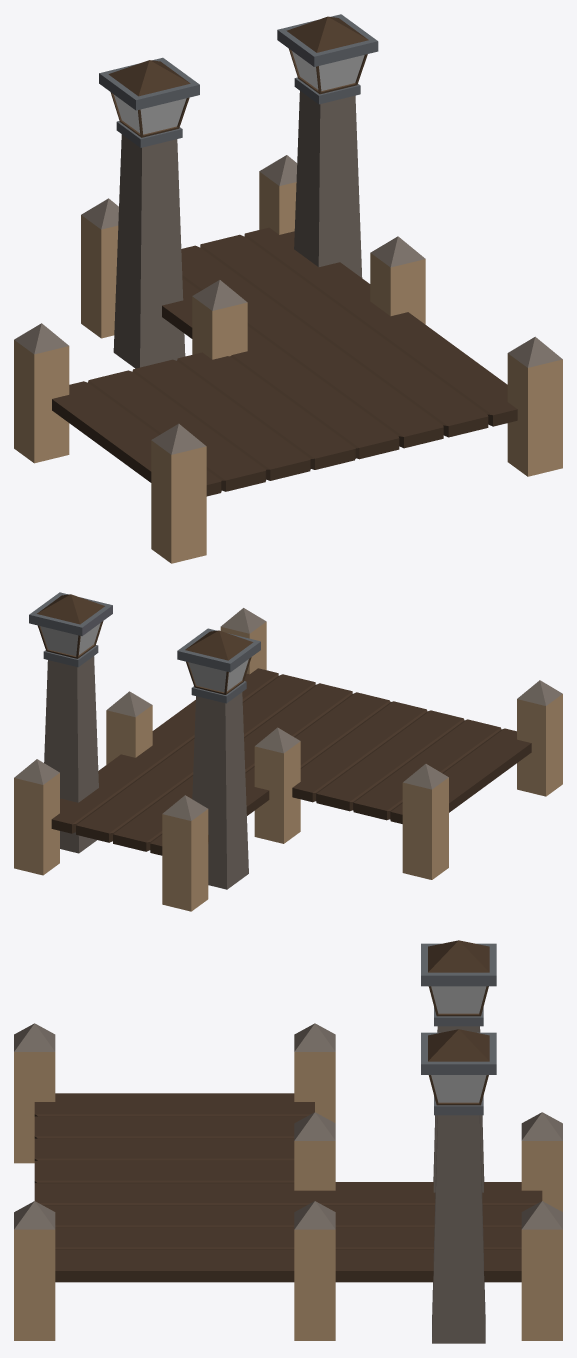
Rendered from SM_Pier_01_B.gltf.
3 renders of one model, top to bottom at view 1: azimuth 30°, elevation 25°; view 2: azimuth 150°, elevation 25°; view 3: azimuth 270°, elevation 25°, orthographic. The views are drawn at different scales.
Visible parts, largest first — view 1: SM_Pier_01_B; view 2: SM_Pier_01_B; view 3: SM_Pier_01_B.
Part boxes in pixels (x1=…): SM_Pier_01_B: x1=14, y1=14, x2=562, y2=563; SM_Pier_01_B: x1=14, y1=592, x2=562, y2=911; SM_Pier_01_B: x1=14, y1=940, x2=562, y2=1343.
Bounding box in the file's own units: 3.42 × 2.39 × 3.92.
